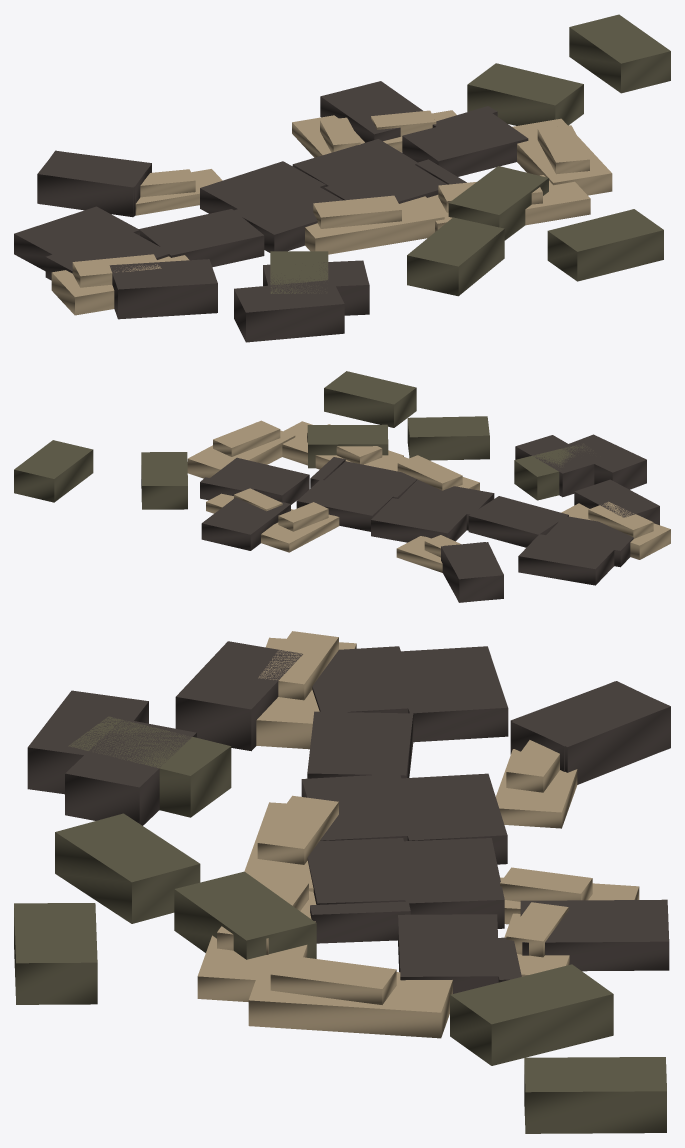
Rendered from SM_SacosRemateEspejo_v1_Talud_e3_Brecha_LOD0.fbx.
The picture shows the model from 3 angles, top to bottom: view 1: azimuth 30°, elevation 25°; view 2: azimuth 150°, elevation 25°; view 3: azimuth 270°, elevation 25°; orthographic projection. The views are drawn at different scales.
Parts seen in each view (by area): view 1: SM_sacos_piezas_v27_LOD0; view 2: SM_sacos_piezas_v27_LOD0; view 3: SM_sacos_piezas_v27_LOD0.
Boxes of the visible parts, left/top/right/bottom form: SM_sacos_piezas_v27_LOD0: left=14, top=14, right=670, bottom=342; SM_sacos_piezas_v27_LOD0: left=14, top=371, right=670, bottom=602; SM_sacos_piezas_v27_LOD0: left=14, top=631, right=670, bottom=1133.
Bounding box in the file's own units: 6.29 × 0.26 × 3.71.
